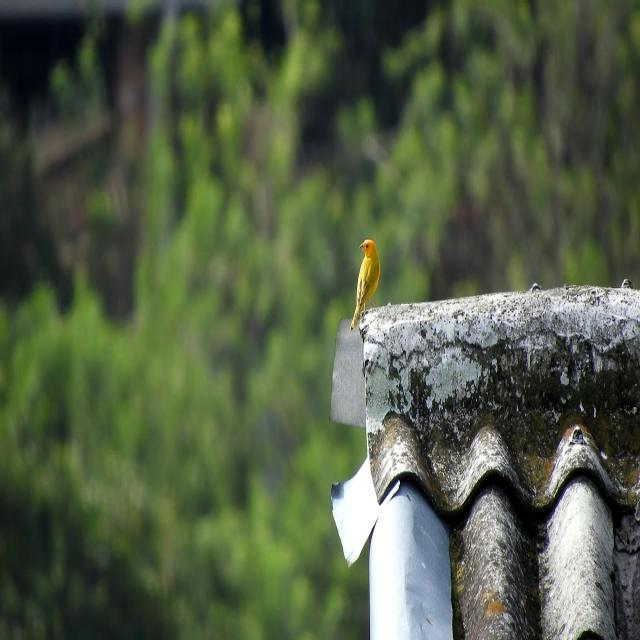bird: (349, 237, 381, 332)
